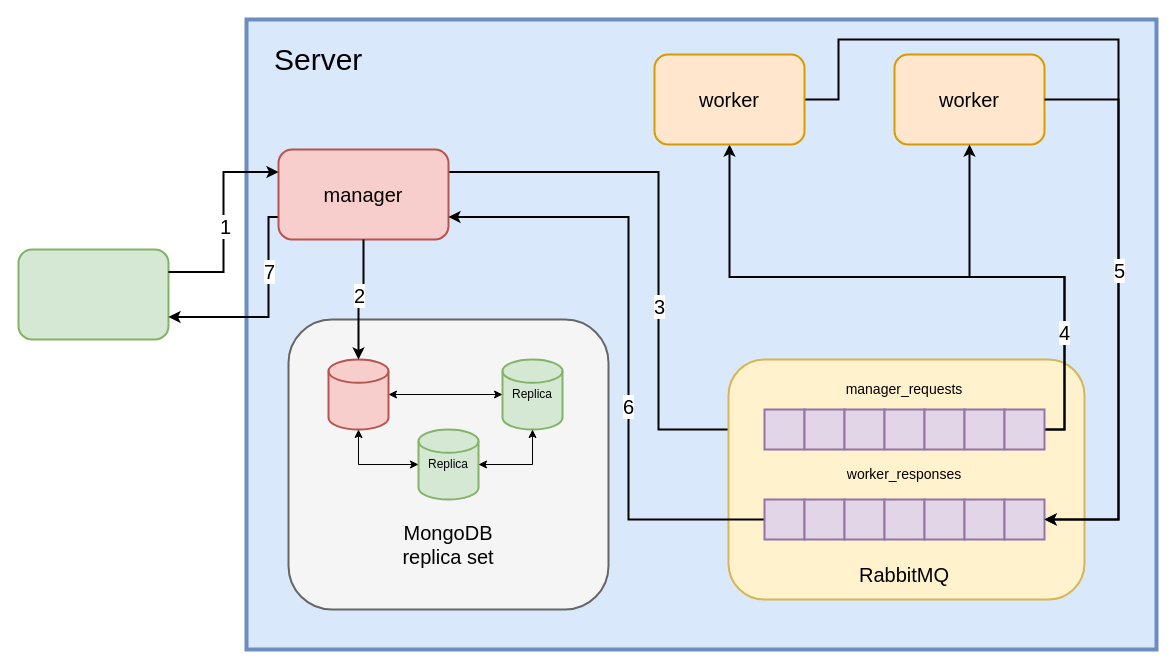
This 1175x668 diagram has some shape labels left out. Each missing label, with the centre of its shape:
"client" goes at point 93,294.
"Master" goes at point 358,394.
